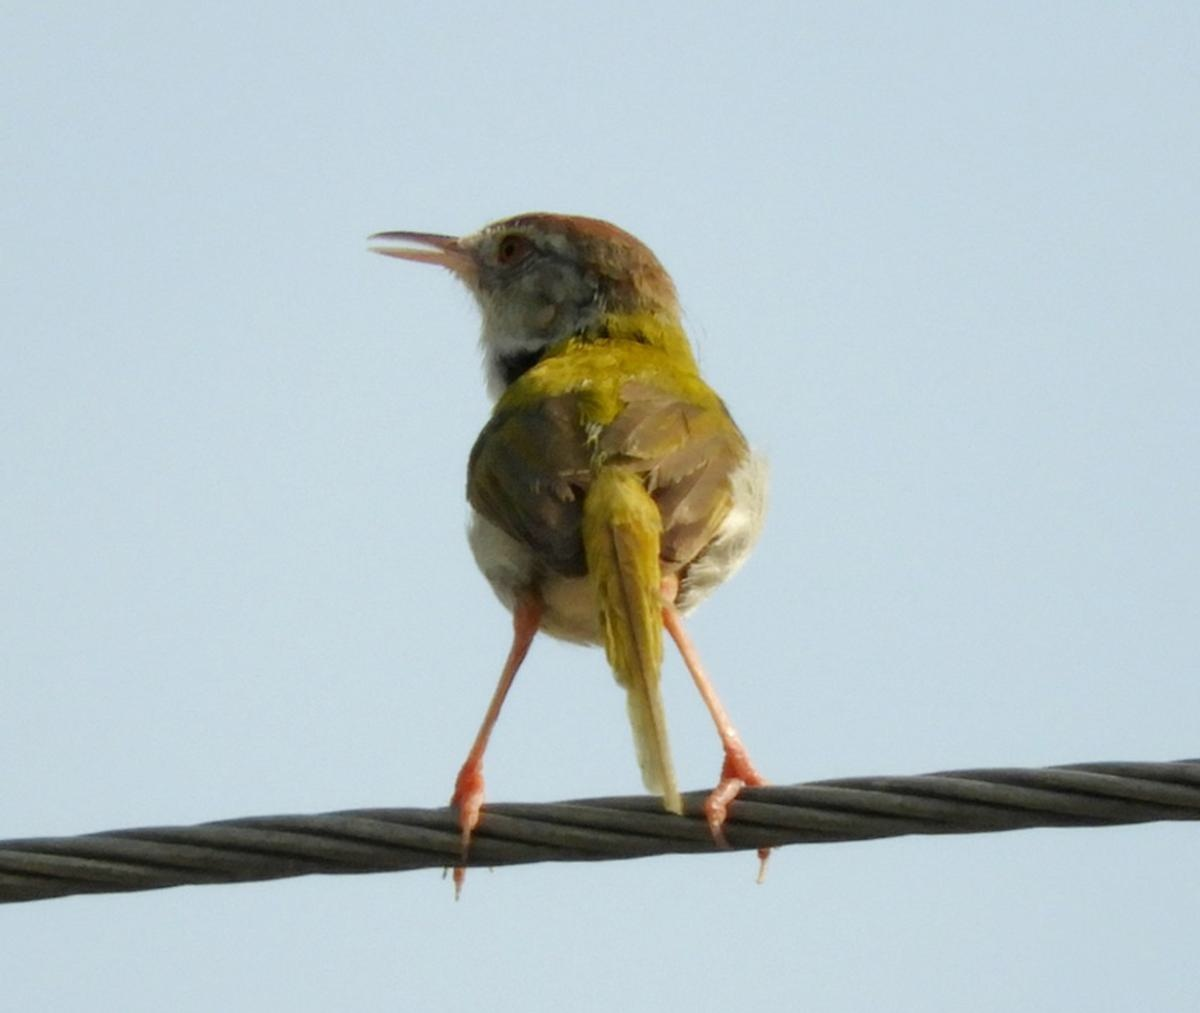tailorbird: (378, 166, 821, 923)
